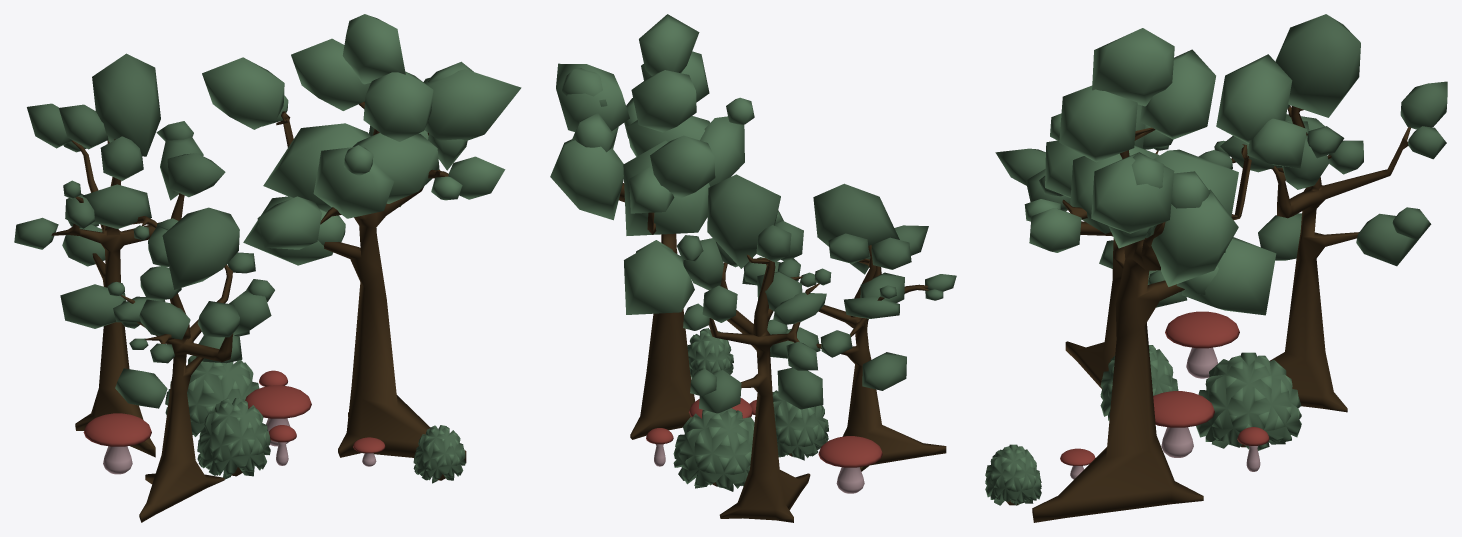
The model's file is set_3treeshroomy_20210129.fbx.
3 renders of one model, left to right at view 1: azimuth 30°, elevation 25°; view 2: azimuth 150°, elevation 25°; view 3: azimuth 270°, elevation 25°, orthographic. The views are drawn at different scales.
Parts seen in each view (by area): view 1: dead tree.002; view 2: dead tree.002; view 3: dead tree.002.
Part boxes in pixels (left/top/right/bottom): dead tree.002: left=14, top=14, right=521, bottom=522; dead tree.002: left=550, top=14, right=956, bottom=522; dead tree.002: left=985, top=14, right=1447, bottom=522.
Bounding box in the file's own units: 3.64 × 3.72 × 3.32.
